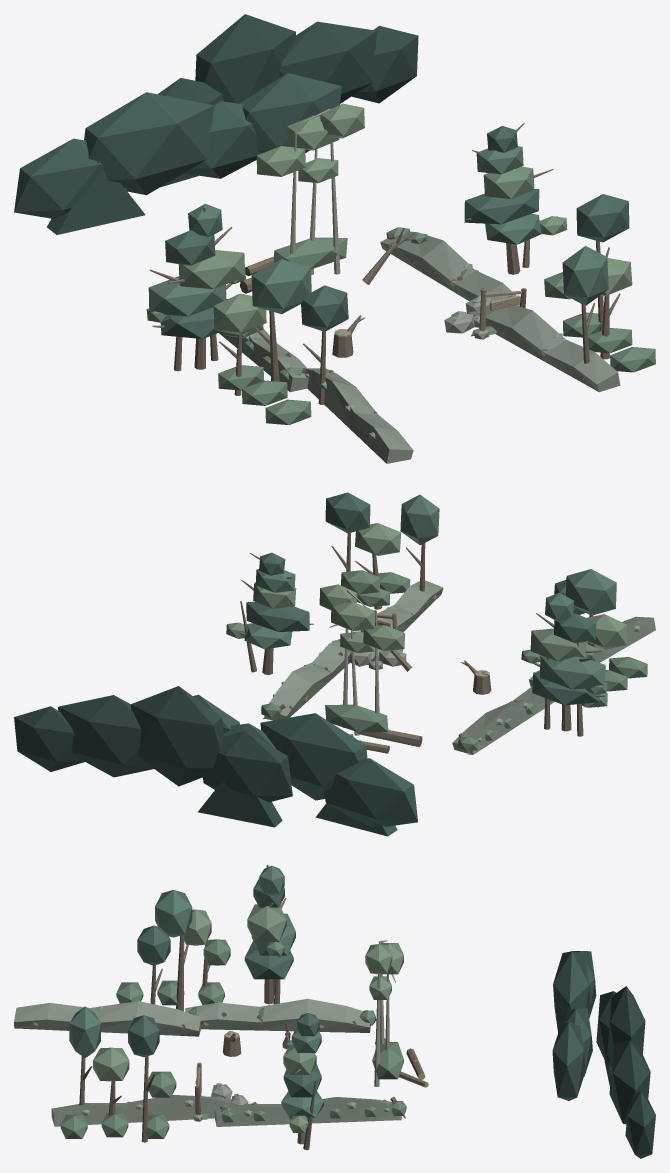
The model's file is urman_forest_edge_kit.glb.
3 views of the same model, one above another, from view 1: azimuth 30°, elevation 25°; view 2: azimuth 150°, elevation 25°; view 3: azimuth 270°, elevation 25° (orthographic). The views are drawn at different scales.
Visible parts, largest first — view 1: DistantForestMass_A_LOD0, DistantForestMass_B_LOD0, ForestOccluder_LeftCluster_LOD0, ForestOccluder_RightCluster_LOD0, PineMass_A_LOD0, BirchEdgeMass_LOD0, PineMass_B_LOD0, ForestBank_Right_LOD0, ForestBank_Left_LOD0, UnderstoryRootWall_Right_LOD0, UnderstoryRootWall_Left_LOD0, SideGate_WayfindingLandmark_LOD0 (+1 smaller); view 2: DistantForestMass_B_LOD0, DistantForestMass_A_LOD0, PineMass_A_LOD0, ForestOccluder_RightCluster_LOD0, BirchEdgeMass_LOD0, PineMass_B_LOD0, ForestOccluder_LeftCluster_LOD0, UnderstoryRootWall_Right_LOD0, UnderstoryRootWall_Left_LOD0, ForestBank_Right_LOD0, ForestBank_Left_LOD0, FallenLogCluster_LOD0 (+1 smaller); view 3: ForestOccluder_RightCluster_LOD0, DistantForestMass_B_LOD0, ForestOccluder_LeftCluster_LOD0, DistantForestMass_A_LOD0, PineMass_A_LOD0, UnderstoryRootWall_Left_LOD0, ForestBank_Left_LOD0, PineMass_B_LOD0, UnderstoryRootWall_Right_LOD0, BirchEdgeMass_LOD0, ForestBank_Right_LOD0, FallenLogCluster_LOD0.
Part boxes in pixels (x1,y1,x2,y2): DistantForestMass_A_LOD0: (14, 73, 341, 234); DistantForestMass_B_LOD0: (158, 14, 418, 187); ForestOccluder_LeftCluster_LOD0: (213, 259, 348, 424); ForestOccluder_RightCluster_LOD0: (544, 194, 655, 372); PineMass_A_LOD0: (146, 203, 245, 371); BirchEdgeMass_LOD0: (256, 103, 364, 274); PineMass_B_LOD0: (464, 123, 567, 274); ForestBank_Right_LOD0: (468, 301, 620, 392); ForestBank_Left_LOD0: (303, 368, 413, 463); UnderstoryRootWall_Right_LOD0: (380, 227, 520, 306); UnderstoryRootWall_Left_LOD0: (219, 329, 308, 392); SideGate_WayfindingLandmark_LOD0: (471, 288, 526, 339); DistantForestMass_B_LOD0: (14, 686, 292, 827); DistantForestMass_A_LOD0: (193, 694, 417, 836); PineMass_A_LOD0: (521, 592, 607, 736); ForestOccluder_RightCluster_LOD0: (325, 492, 439, 609); BirchEdgeMass_LOD0: (319, 584, 404, 738); PineMass_B_LOD0: (226, 552, 313, 674); ForestOccluder_LeftCluster_LOD0: (554, 569, 647, 707); UnderstoryRootWall_Right_LOD0: (261, 639, 350, 720); UnderstoryRootWall_Left_LOD0: (452, 686, 554, 754); ForestBank_Right_LOD0: (363, 580, 443, 664); ForestBank_Left_LOD0: (529, 616, 655, 686); FallenLogCluster_LOD0: (349, 729, 422, 753); ForestOccluder_RightCluster_LOD0: (60, 1006, 176, 1142); DistantForestMass_B_LOD0: (596, 986, 655, 1158); ForestOccluder_LeftCluster_LOD0: (116, 890, 230, 1011); DistantForestMass_A_LOD0: (552, 951, 596, 1100); PineMass_A_LOD0: (244, 865, 295, 1004); UnderstoryRootWall_Left_LOD0: (185, 998, 376, 1032); ForestBank_Left_LOD0: (14, 1001, 200, 1036); PineMass_B_LOD0: (281, 1013, 323, 1150); UnderstoryRootWall_Right_LOD0: (214, 1096, 406, 1126); BirchEdgeMass_LOD0: (365, 940, 403, 1086); ForestBank_Right_LOD0: (51, 1095, 235, 1126); FallenLogCluster_LOD0: (375, 1038, 428, 1087).
Size of what is drawn, in the model's own units: 26.08 by 8.75 by 34.55.
